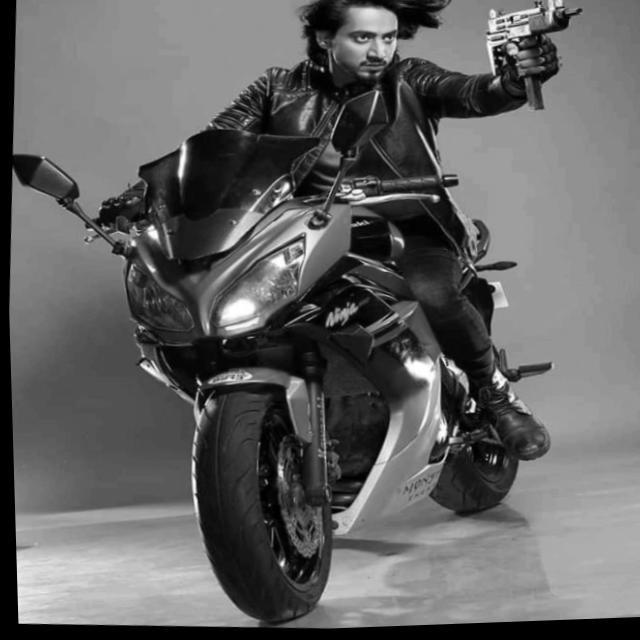weapon: (473, 0, 594, 123)
